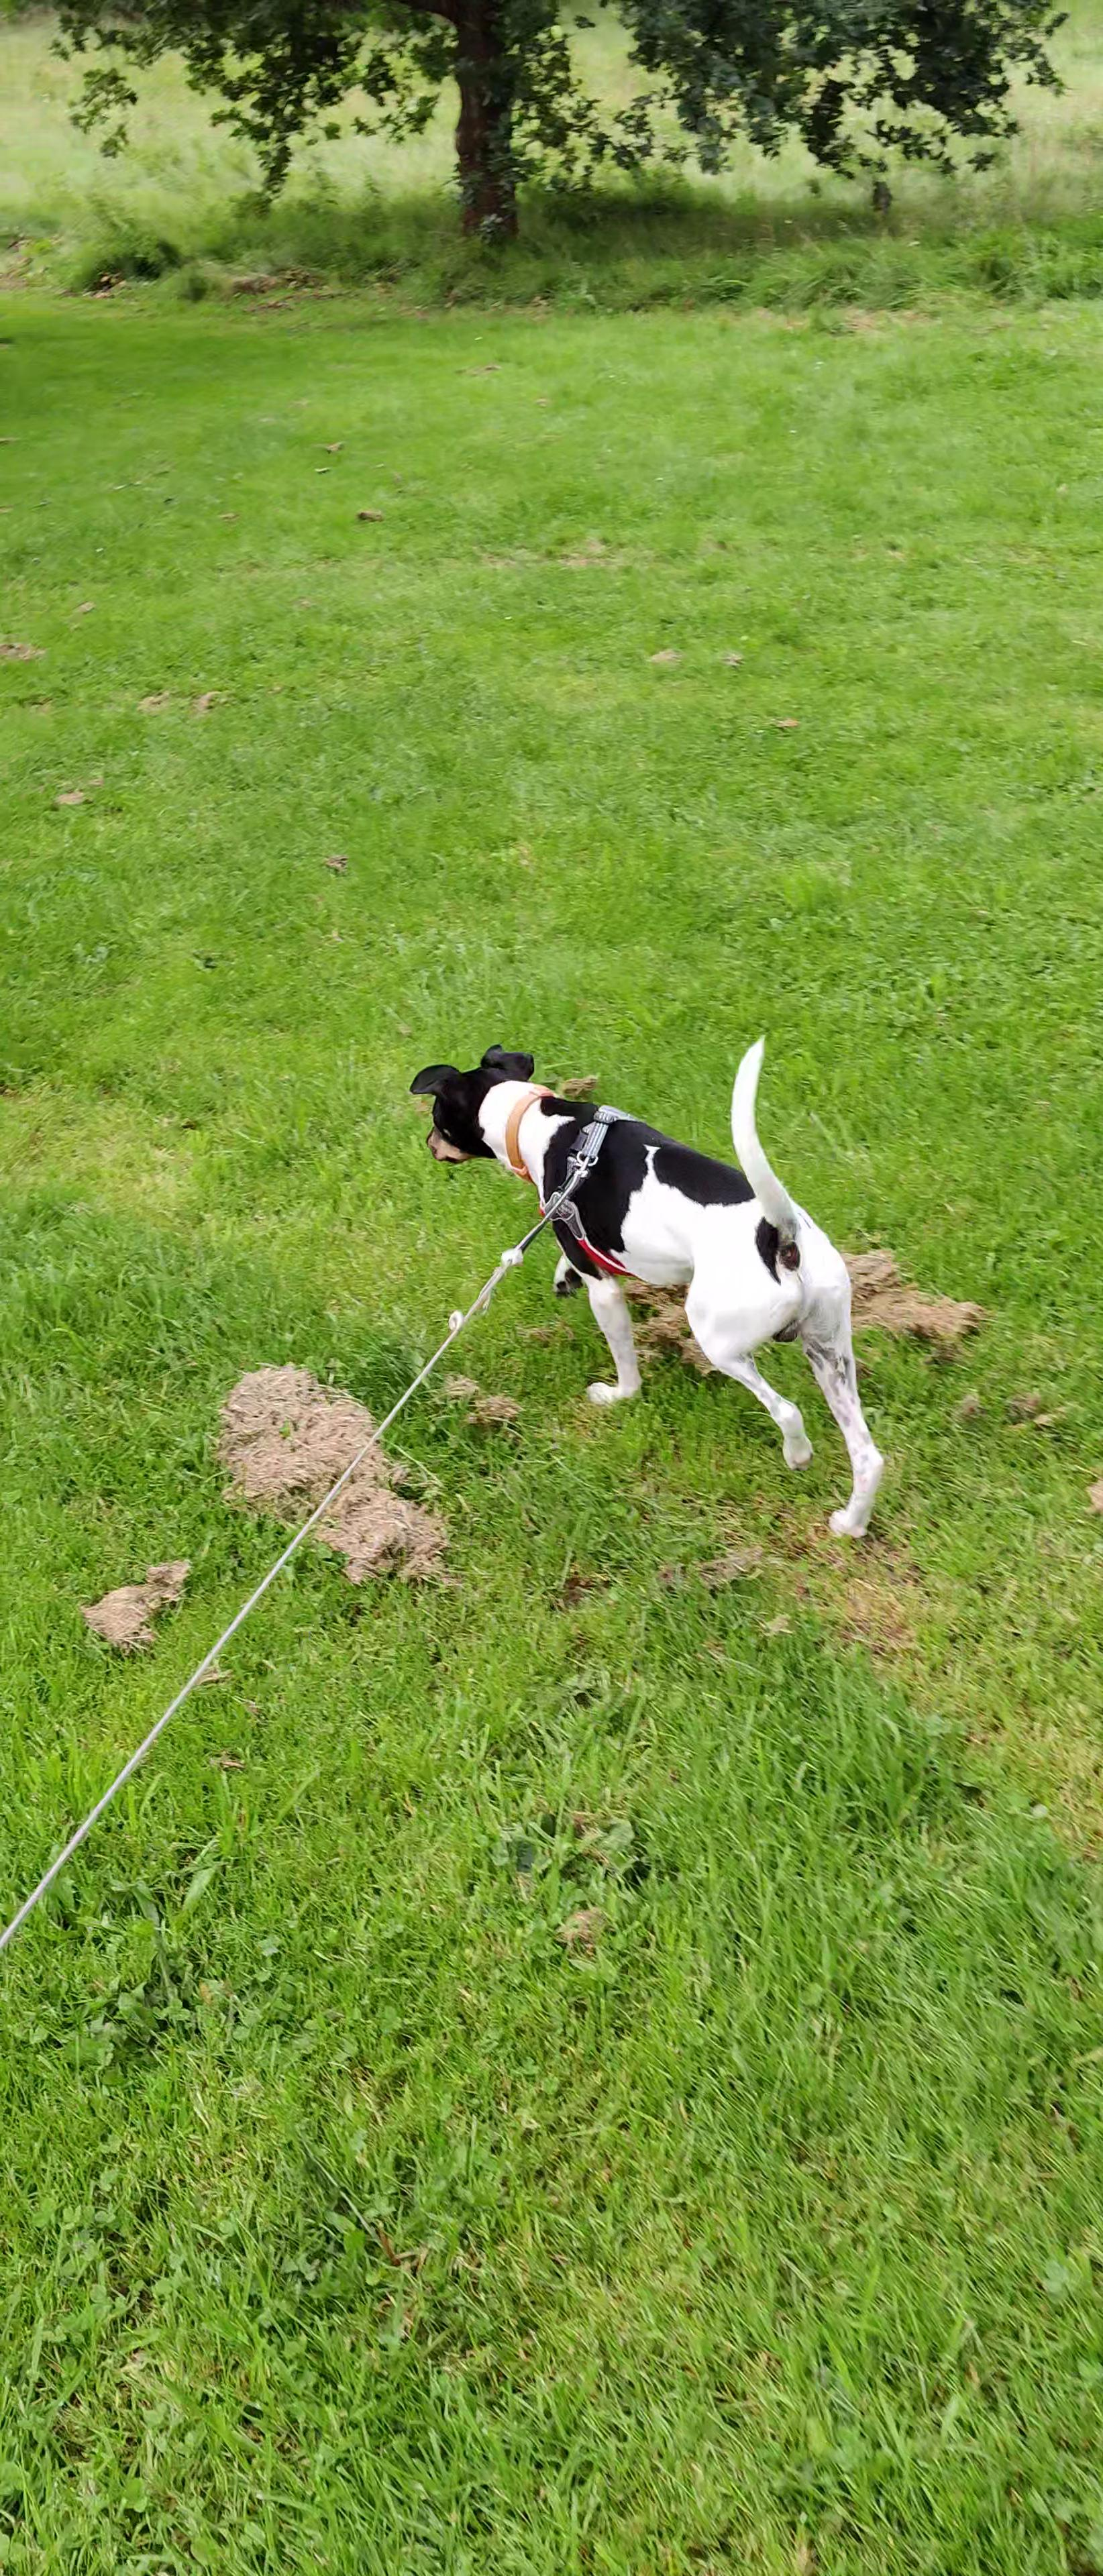Dog: (385, 1012, 902, 1561)
